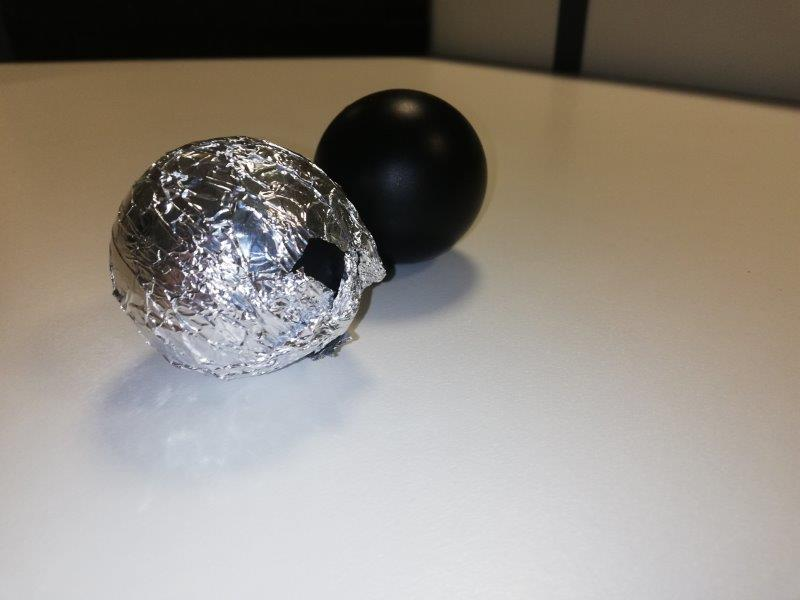bianca: (104, 137, 386, 377)
nera: (311, 89, 492, 261)
